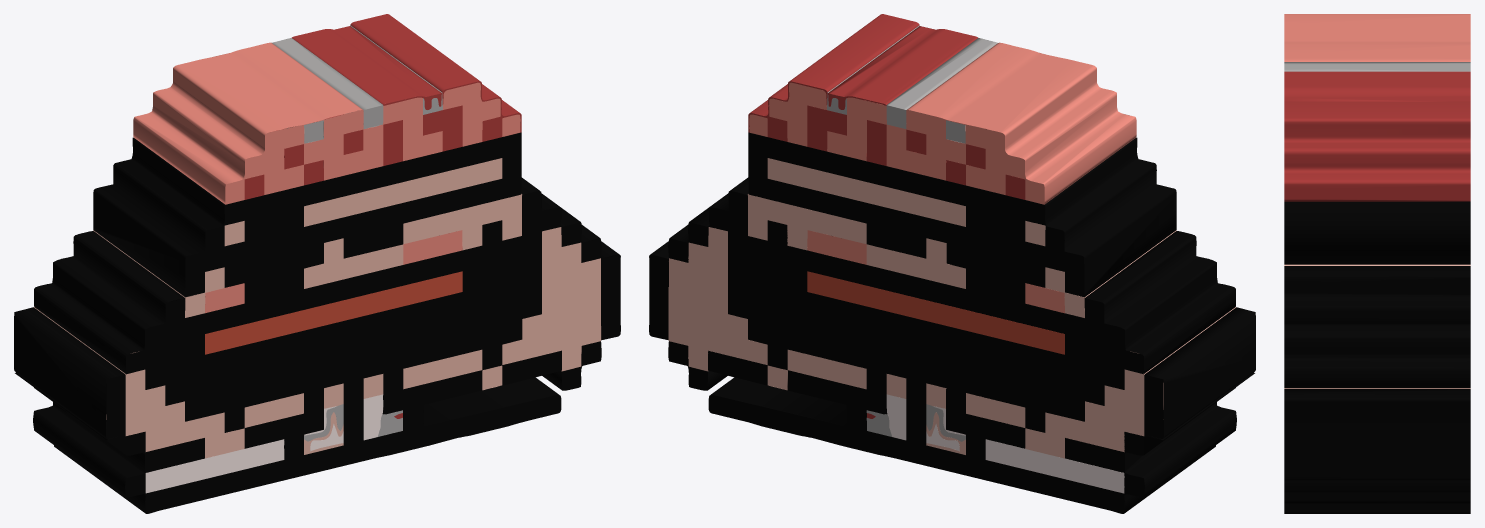
Rendered from Toadz_4839.glb.
3 views of the same model, side by side, from view 1: azimuth 30°, elevation 25°; view 2: azimuth 150°, elevation 25°; view 3: azimuth 270°, elevation 25° (orthographic).
Visible parts, largest first — view 1: Curve; view 2: Curve; view 3: Curve.
Part boxes in pixels (left/top/right/bottom): Curve: left=14, top=14, right=620, bottom=513; Curve: left=649, top=14, right=1255, bottom=513; Curve: left=1284, top=14, right=1470, bottom=513.
Bounding box in the file's own units: 3.23 × 2.11 × 1.
